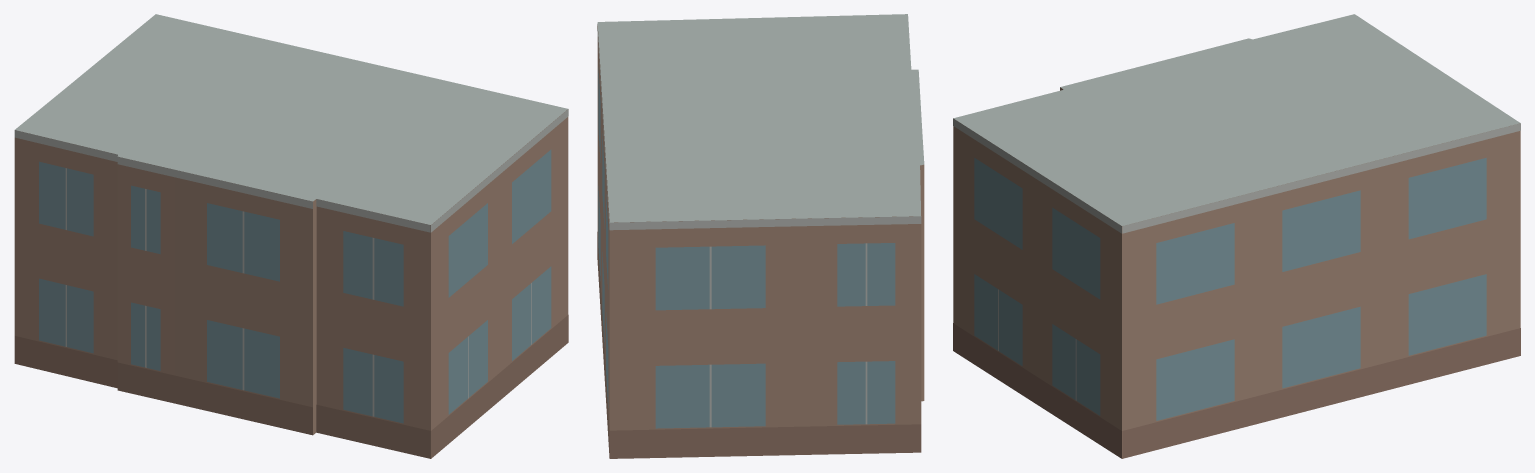
File: survey-upis-32935161.glb
3 renders of one model, left to right at view 1: azimuth 30°, elevation 25°; view 2: azimuth 150°, elevation 25°; view 3: azimuth 270°, elevation 25°, orthographic.
Parts seen in each view (by area): view 1: survey-upis-32935161.tmp; view 2: survey-upis-32935161.tmp; view 3: survey-upis-32935161.tmp.
Part boxes in pixels (bbox=[...]): survey-upis-32935161.tmp: bbox=[14, 14, 568, 458]; survey-upis-32935161.tmp: bbox=[597, 14, 924, 458]; survey-upis-32935161.tmp: bbox=[953, 14, 1520, 458].
Size of the model in its own units: 14.68 by 7.5 by 16.59.
